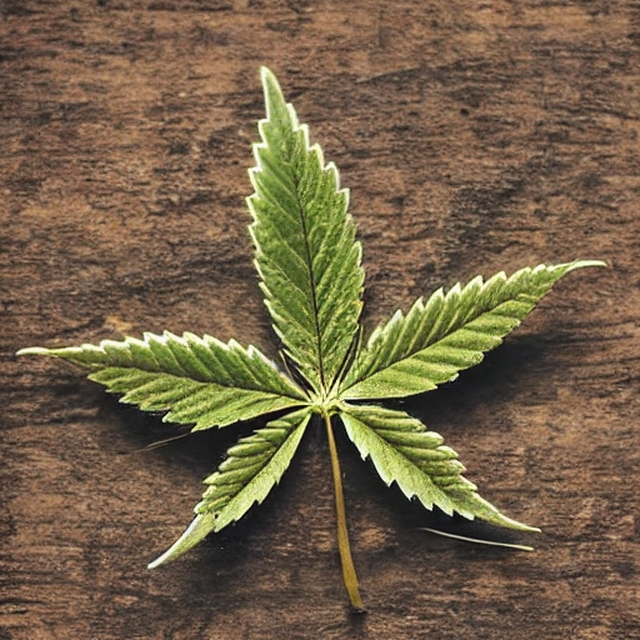Marijuana Leaf: (15, 63, 608, 612)
